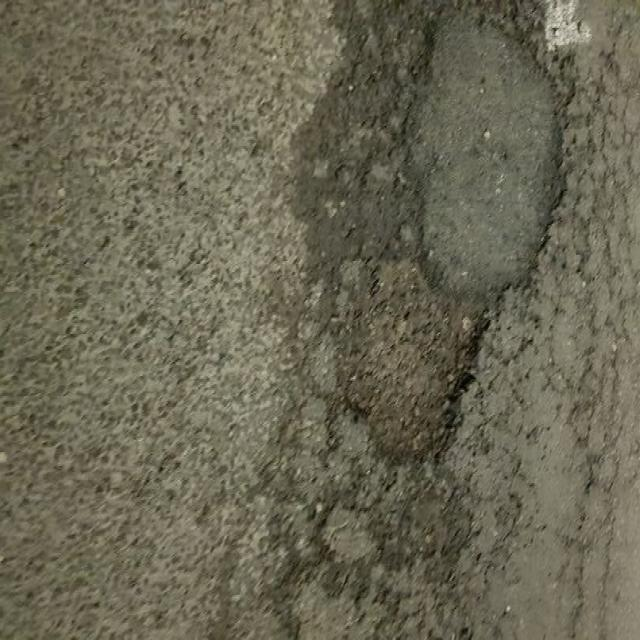Pothole: (336, 250, 498, 475)
